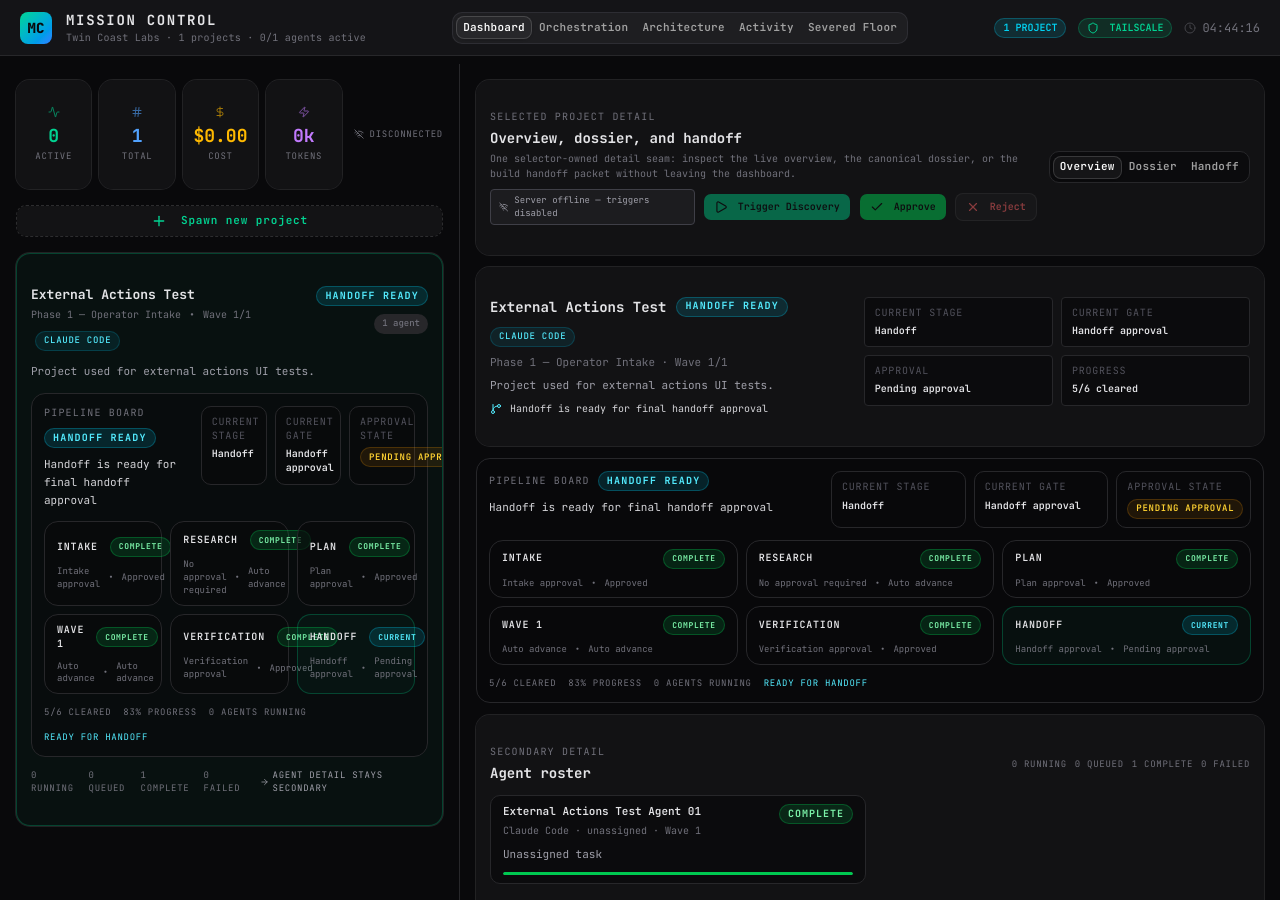
Test case: ExternalActionsPanel UI › completed action › shows result details and no action buttons for completed action
Step 1. Click the tab "Handoff" → x=1215, y=167, box 1184,156 -> 1246,179
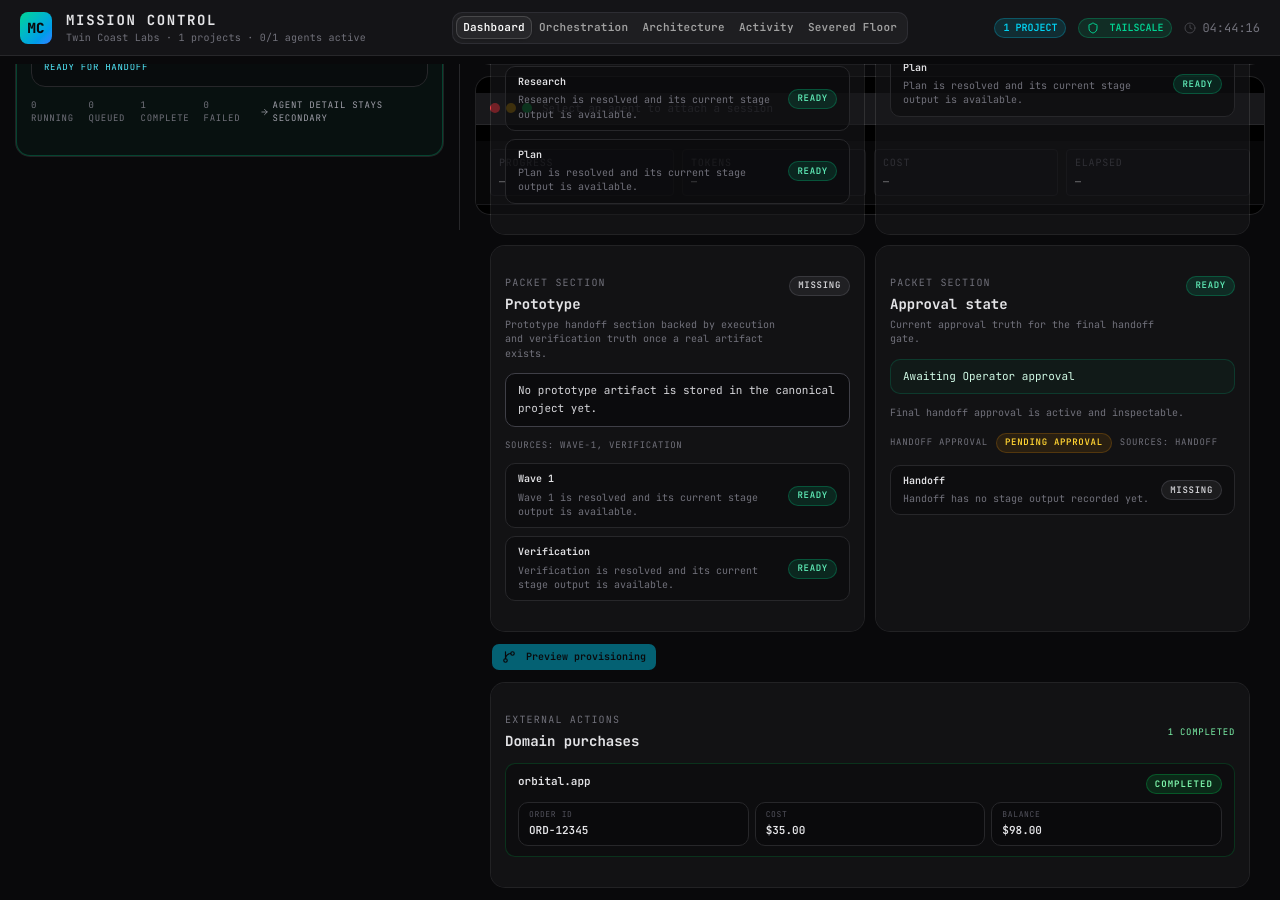
expect the element with test id "external-action-act-004" is shown: met, box 505,764 -> 1235,857
expect the text "orbital.app" is shown: met, box 518,774 -> 591,790
expect the element with test id "external-action-act-004-result" is shown: met, box 518,774 -> 1222,846
